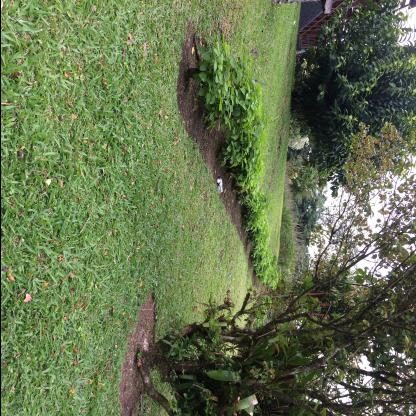plastik: (216, 176, 222, 193)
